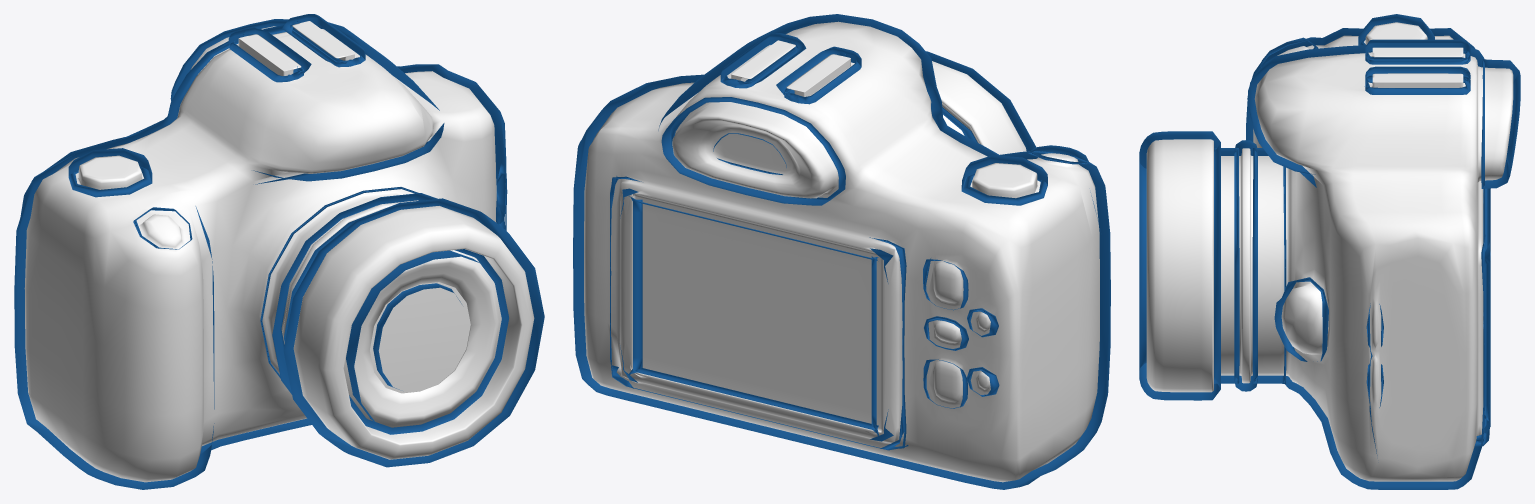
The model's file is camera.glb.
3 renders of one model, left to right at view 1: azimuth 30°, elevation 25°; view 2: azimuth 150°, elevation 25°; view 3: azimuth 270°, elevation 25°, orthographic. The views are drawn at different scales.
Visible parts, largest first — view 1: Cube002, Cube002_1; view 2: Cube002, Cube002_1; view 3: Cube002, Cube002_1.
Boxes of the visible parts, <box> form: Cube002: <box>24,21,534,482</box>; Cube002_1: <box>14,14,544,489</box>; Cube002: <box>584,21,1099,482</box>; Cube002_1: <box>573,14,1110,489</box>; Cube002: <box>1146,22,1513,481</box>; Cube002_1: <box>1139,14,1520,489</box>.
Size of the model in its own units: 3.46 by 2.63 by 2.58.
